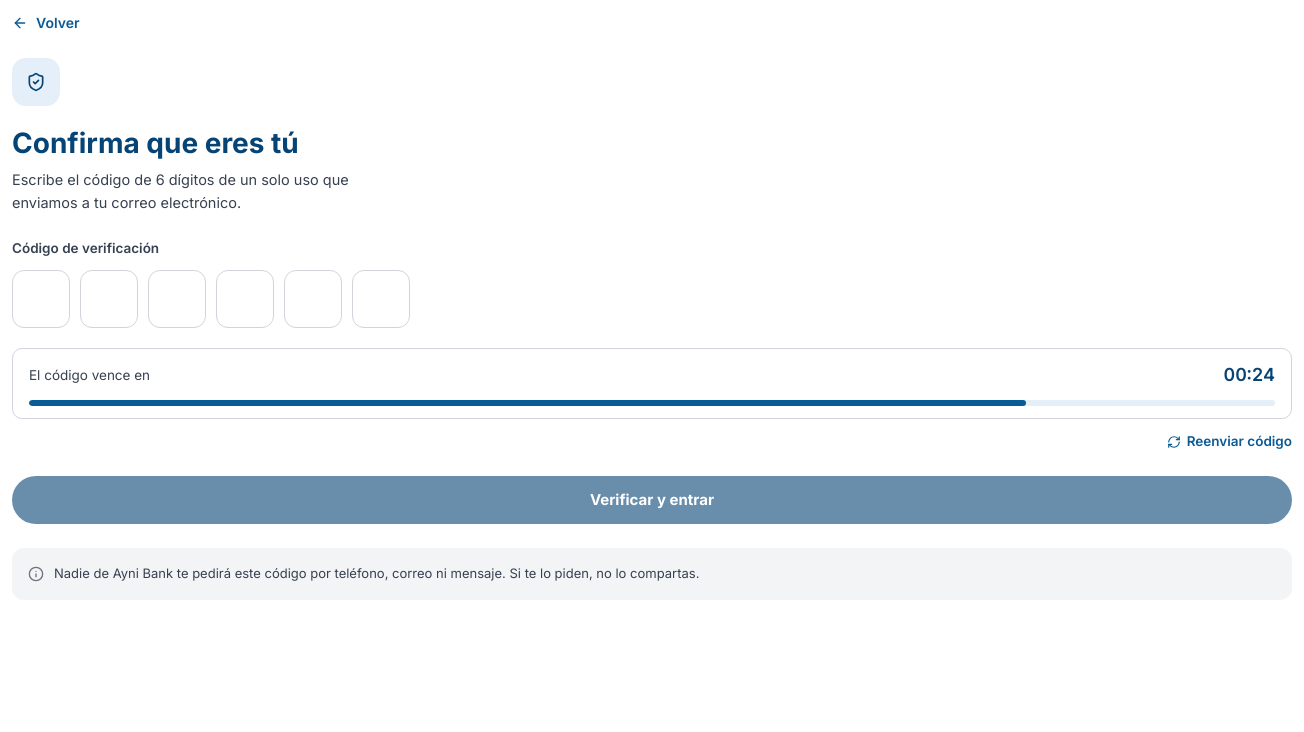
Test: PasoDeSegundoFactor › permite reenviar el código para canales OTP (Correo/SMS)
What coordinates should you click on to do the following:
click the button "Reenviar código"
I would click on:
 (1229, 442)
Its box is [1167,431,1292,452].
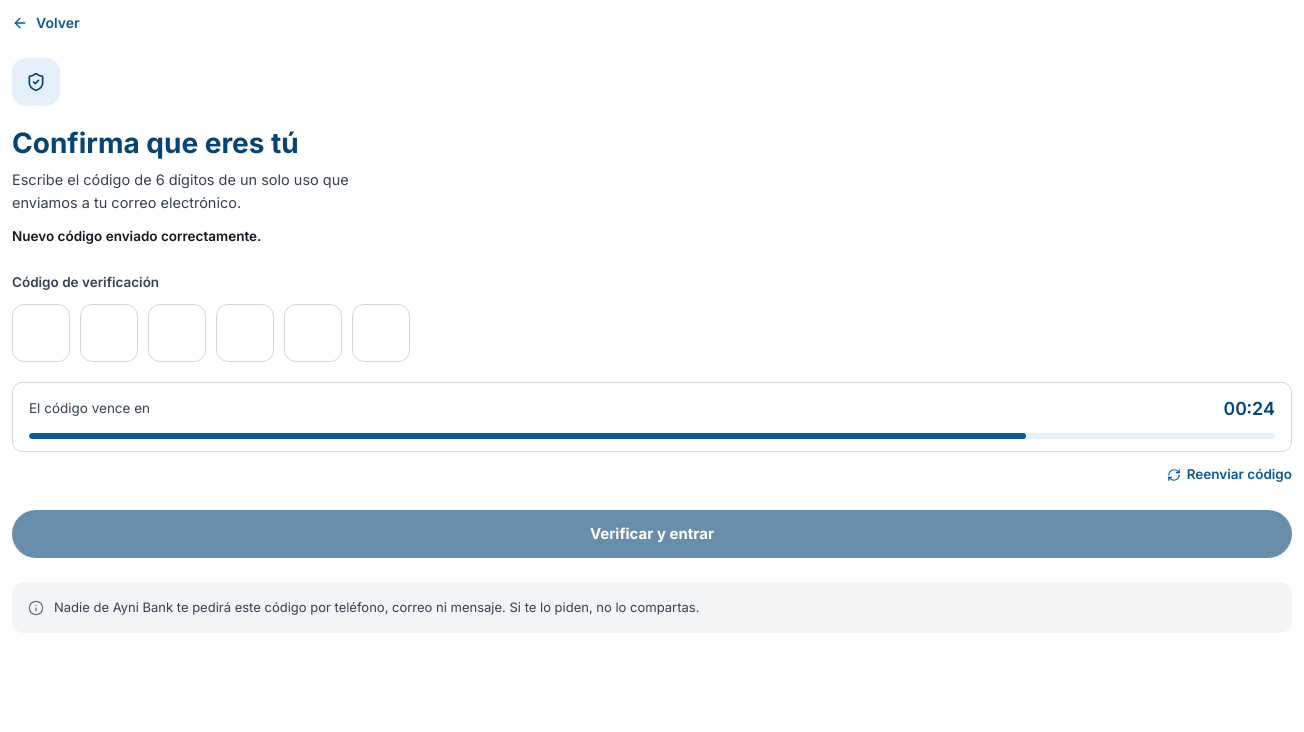
expect the text "Nuevo código enviado correctamente." is shown: met, box [12,228,261,244]
